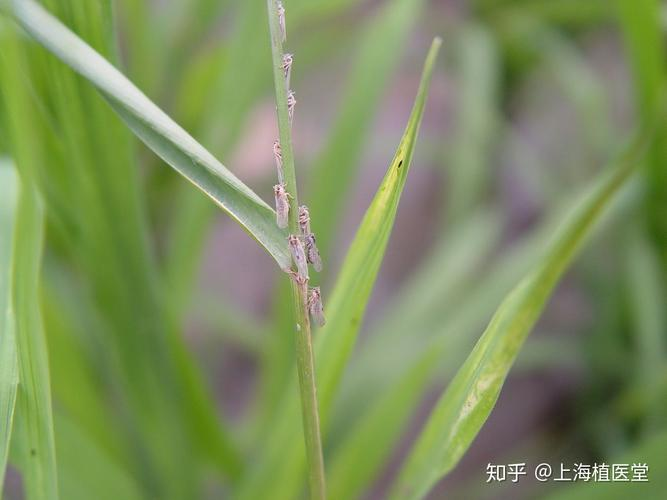Delphacidae: (285, 233, 309, 280), (272, 181, 295, 229), (305, 285, 328, 327), (303, 232, 323, 273), (272, 136, 289, 184), (295, 204, 312, 233)
